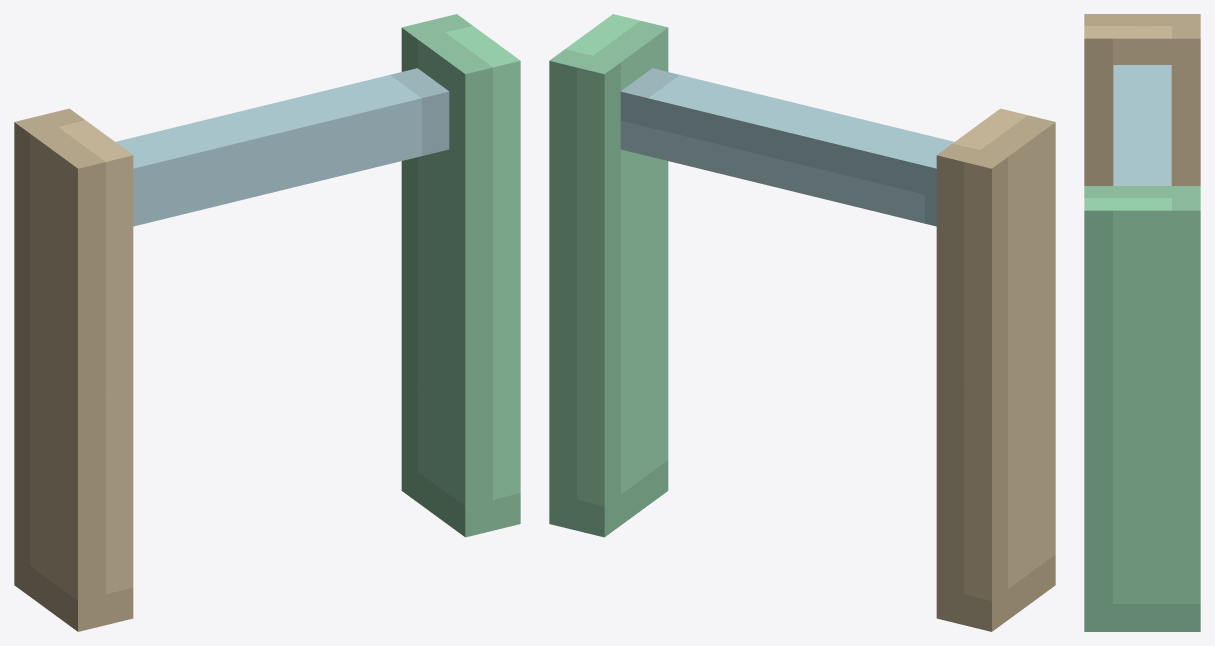
Rendered from bell_extra.gltf.
The picture shows the model from 3 angles, left to right: view 1: azimuth 30°, elevation 25°; view 2: azimuth 150°, elevation 25°; view 3: azimuth 270°, elevation 25°; orthographic projection. The views are drawn at different scales.
Visible parts, largest first — view 1: 9c5373ae-8103-29c1-de15-8bbca9f6f102, 168666ef-d2dc-db06-f2fd-3fe94d8490a0, 77964e4f-39bb-5bdc-f356-b2b3141934f8; view 2: 9c5373ae-8103-29c1-de15-8bbca9f6f102, 168666ef-d2dc-db06-f2fd-3fe94d8490a0, 77964e4f-39bb-5bdc-f356-b2b3141934f8; view 3: 168666ef-d2dc-db06-f2fd-3fe94d8490a0, 9c5373ae-8103-29c1-de15-8bbca9f6f102, 77964e4f-39bb-5bdc-f356-b2b3141934f8.
Boxes of the visible parts, x1,y1,x2,y2 form: 9c5373ae-8103-29c1-de15-8bbca9f6f102: (14,108,133,631); 168666ef-d2dc-db06-f2fd-3fe94d8490a0: (401,14,520,537); 77964e4f-39bb-5bdc-f356-b2b3141934f8: (116,68,449,226); 9c5373ae-8103-29c1-de15-8bbca9f6f102: (936,108,1055,631); 168666ef-d2dc-db06-f2fd-3fe94d8490a0: (549,14,668,537); 77964e4f-39bb-5bdc-f356-b2b3141934f8: (620,68,953,226); 168666ef-d2dc-db06-f2fd-3fe94d8490a0: (1084,186,1200,631); 9c5373ae-8103-29c1-de15-8bbca9f6f102: (1084,14,1200,185); 77964e4f-39bb-5bdc-f356-b2b3141934f8: (1113,65,1171,185).
Size of the model in its own units: 1 by 1 by 0.25.
Materials: 3 (3 with a texture image).
